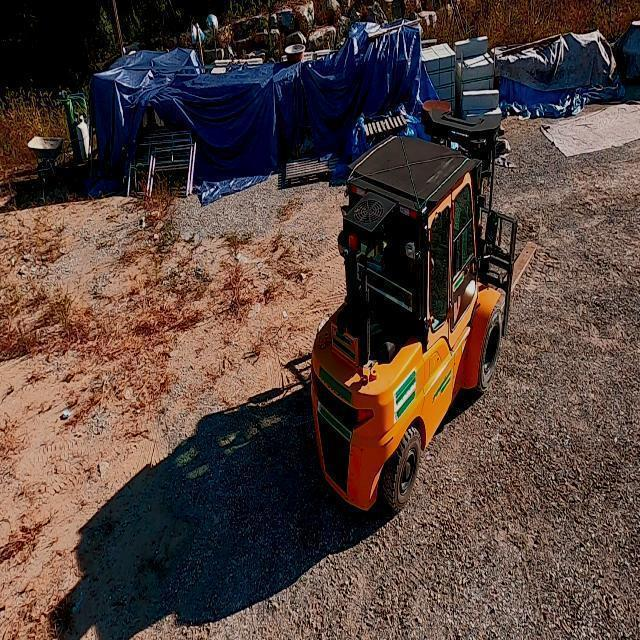forklift: (308, 139, 511, 510)
